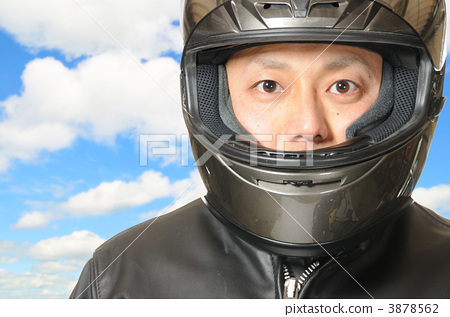helmet: (175, 4, 444, 244)
